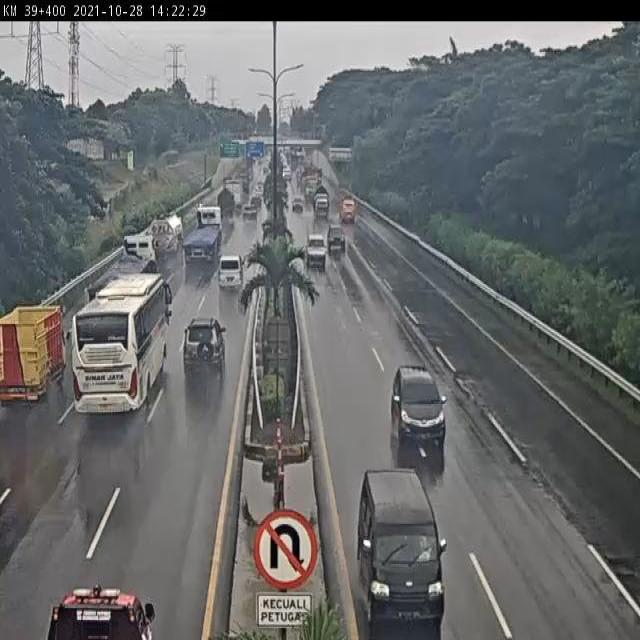big bus: (66, 284, 167, 441)
big truck: (117, 231, 156, 288), (183, 208, 216, 267)
car: (348, 448, 446, 613), (378, 345, 445, 444), (174, 322, 225, 387), (215, 254, 246, 298), (303, 228, 327, 265), (326, 221, 347, 247), (241, 212, 263, 231), (248, 192, 263, 213), (251, 186, 264, 206)
small truck: (0, 307, 63, 421), (133, 205, 170, 264), (211, 191, 232, 224), (337, 192, 355, 219)
